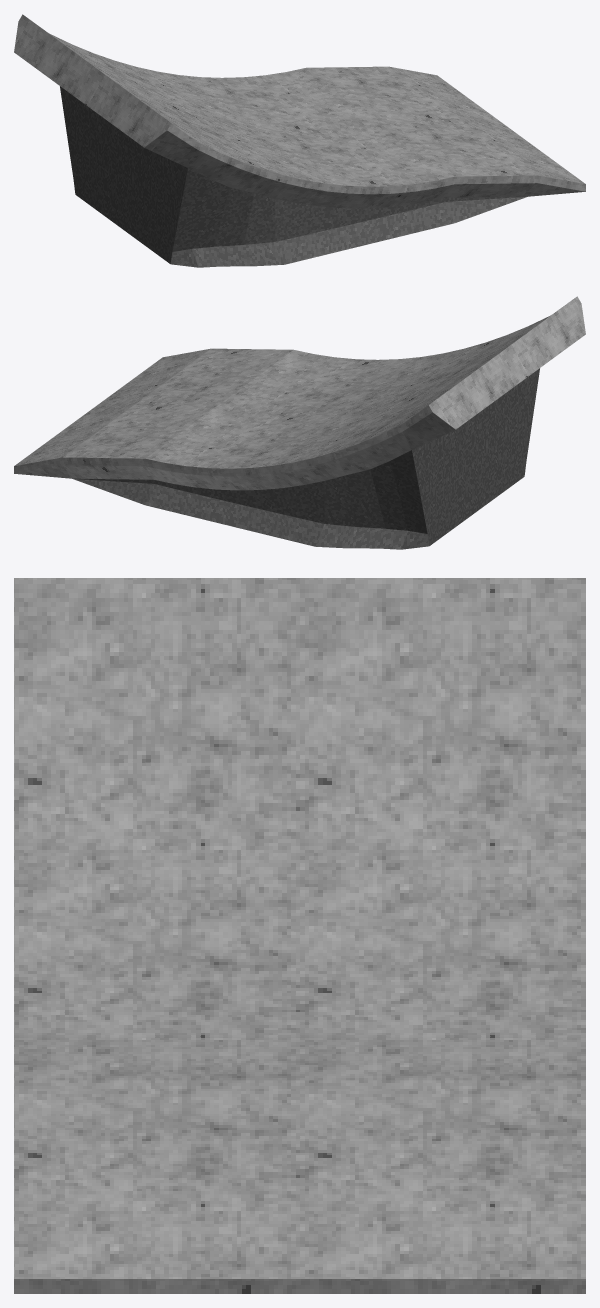
Rendered from Strange springboard.fbx.
3 views of the same model, one above another, from view 1: azimuth 30°, elevation 25°; view 2: azimuth 150°, elevation 25°; view 3: azimuth 270°, elevation 25° (orthographic). The views are drawn at different scales.
Parts seen in each view (by area): view 1: Cube.010; view 2: Cube.010; view 3: Cube.010.
Boxes of the visible parts, box(x1,y1,x2,y2) form: Cube.010: box(14, 14, 585, 267); Cube.010: box(14, 296, 585, 549); Cube.010: box(14, 578, 585, 1293).
Bounding box in the file's own units: 336 × 126 × 200.
